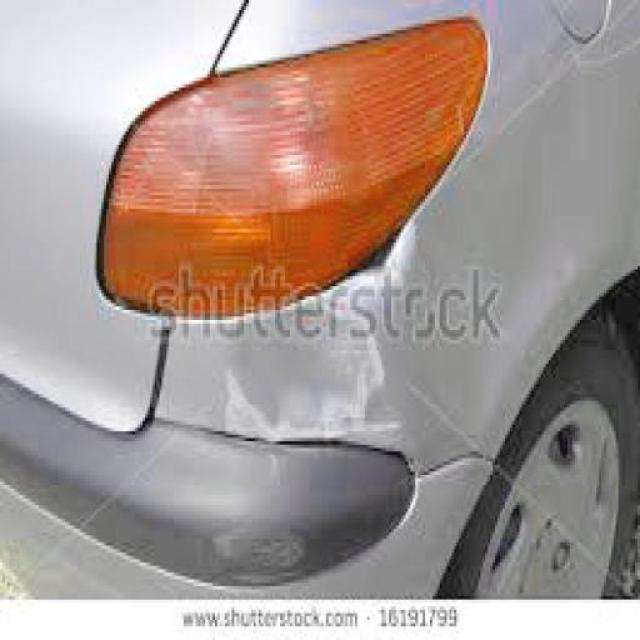car damage: (207, 226, 424, 454)
